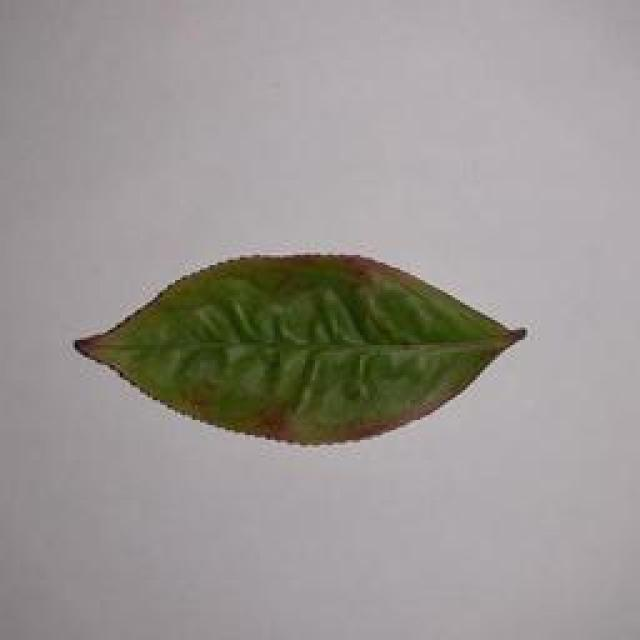Red Leaf Spot: (52, 241, 640, 437)
